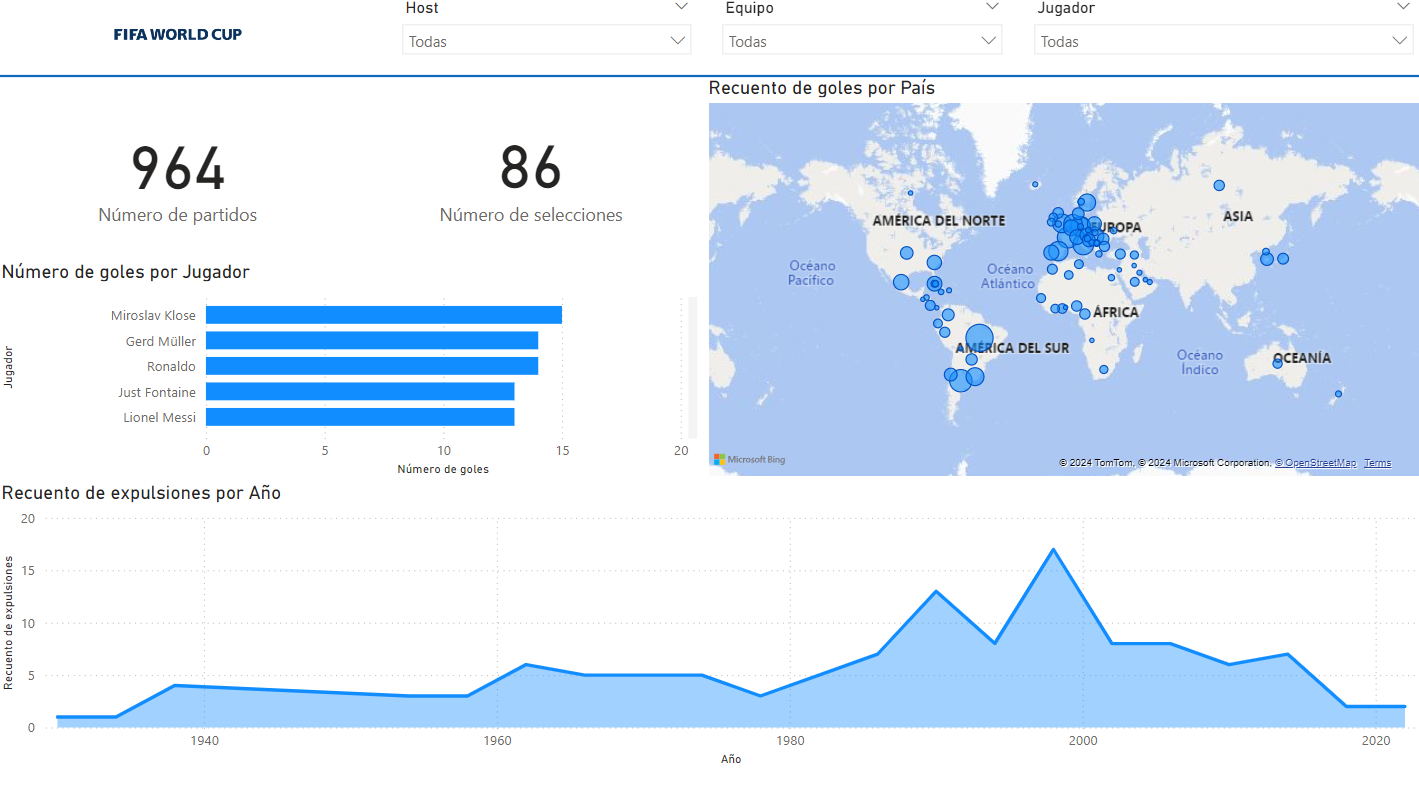

The page's visual inventory and layout, read from the dashboard file:
{"tool":"powerbi","page":{"name":"Página 1","canvas":[1280,720],"ordinal":0},"visuals":[{"type":"clusteredBarChart","fields":{"Y":["f_goals.id"],"Category":["dim_players.player"]},"box":[0,239.1,633.1,197.9],"z":0},{"type":"areaChart","fields":{"Category":["dimdates.Date.Variación.Jerarquía de fechas.Año","dimdates.Date.Variación.Jerarquía de fechas.Mes","dimdates.Date.Variación.Jerarquía de fechas.Día"],"Y":["f_red_cards.id"]},"box":[0,437,1279.7,259.7],"z":1000},{"type":"map","fields":{"Size":["f_goals.id"],"Category":["dim_teams.team"]},"box":[633.1,74.3,646.6,362.7],"z":2000},{"type":"card","fields":{"Values":["dim_matches.id"]},"box":[0,80.6,325.1,158.5],"z":3000},{"type":"card","fields":{"Values":["dim_teams.id"]},"box":[325.1,79.7,308.1,159.4],"z":4000},{"type":"shape","box":[0,69,1279.7,10.7],"z":5000},{"type":"slicer","fields":{"Values":["dim_matches.Host"]},"box":[353.7,0,279.4,69],"z":6000},{"type":"slicer","fields":{"Values":["dim_teams.team"]},"box":[640.3,0,271.3,69],"z":7000},{"type":"slicer","fields":{"Values":["dim_players.player"]},"box":[919.7,0,360,69],"z":8000},{"type":"image","box":[0,0,325.1,74.3],"z":9000}]}

Visuals, with their boxes in screenshot pixels (x1, y1, x2, y2), scaled from the page's 1280x720 canvas onto the 1419x793 screenshot:
clusteredBarChart - f_goals.id x dim_players.player: region(0, 263, 702, 481)
areaChart - dimdates.Date.Variación.Jerarquía de fechas.Año x dimdates.Date.Variación.Jerarquía de fechas.Mes: region(0, 481, 1418, 767)
map - f_goals.id x dim_teams.team: region(702, 82, 1418, 481)
card - dim_matches.id: region(0, 89, 360, 263)
card - dim_teams.id: region(360, 88, 702, 263)
shape: region(0, 76, 1418, 88)
slicer - dim_matches.Host: region(392, 0, 702, 76)
slicer - dim_teams.team: region(710, 0, 1011, 76)
slicer - dim_players.player: region(1020, 0, 1418, 76)
image: region(0, 0, 360, 82)
